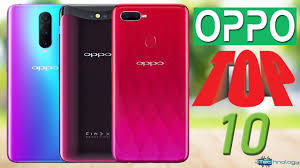oppo: (111, 4, 191, 166), (55, 3, 112, 162), (6, 2, 63, 161)
